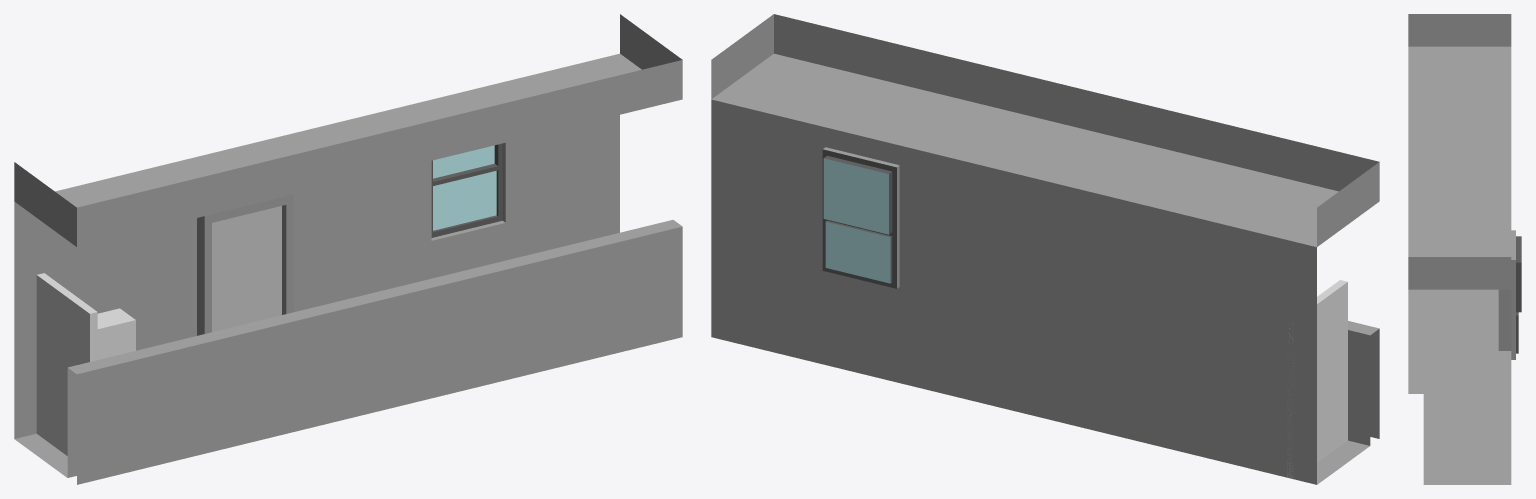
File: BalconyNoWalls.fbx
3 renders of one model, left to right at view 1: azimuth 30°, elevation 25°; view 2: azimuth 150°, elevation 25°; view 3: azimuth 270°, elevation 25°, orthographic. The views are drawn at different scales.
Parts seen in each view (by area): view 1: BalconyNoWalls, Divider; view 2: BalconyNoWalls, Divider; view 3: BalconyNoWalls.
Part boxes in pixels (x1,y1,x2,y2): BalconyNoWalls: (14,14,682,484); Divider: (36,273,97,455); BalconyNoWalls: (711,14,1379,484); Divider: (1287,280,1347,478); BalconyNoWalls: (1408,14,1521,484).
Size of the model in its own units: 800 by 350 by 158.
